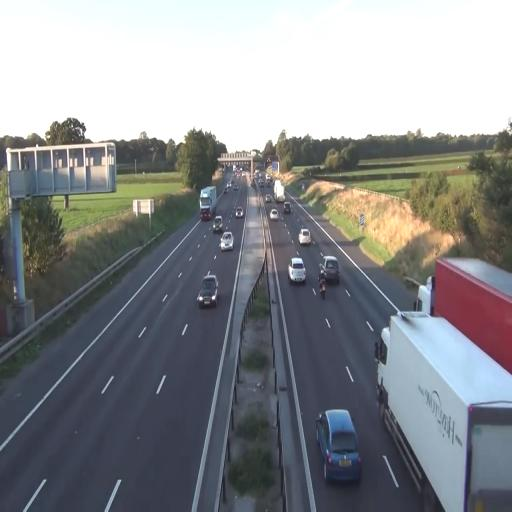vehicle: (375, 257, 512, 507), (428, 256, 512, 377), (315, 408, 362, 484), (318, 254, 340, 296), (197, 273, 219, 308), (318, 255, 340, 286), (200, 186, 216, 221), (200, 186, 216, 220), (288, 256, 306, 284), (298, 226, 312, 248), (220, 230, 234, 250), (270, 206, 279, 220)
